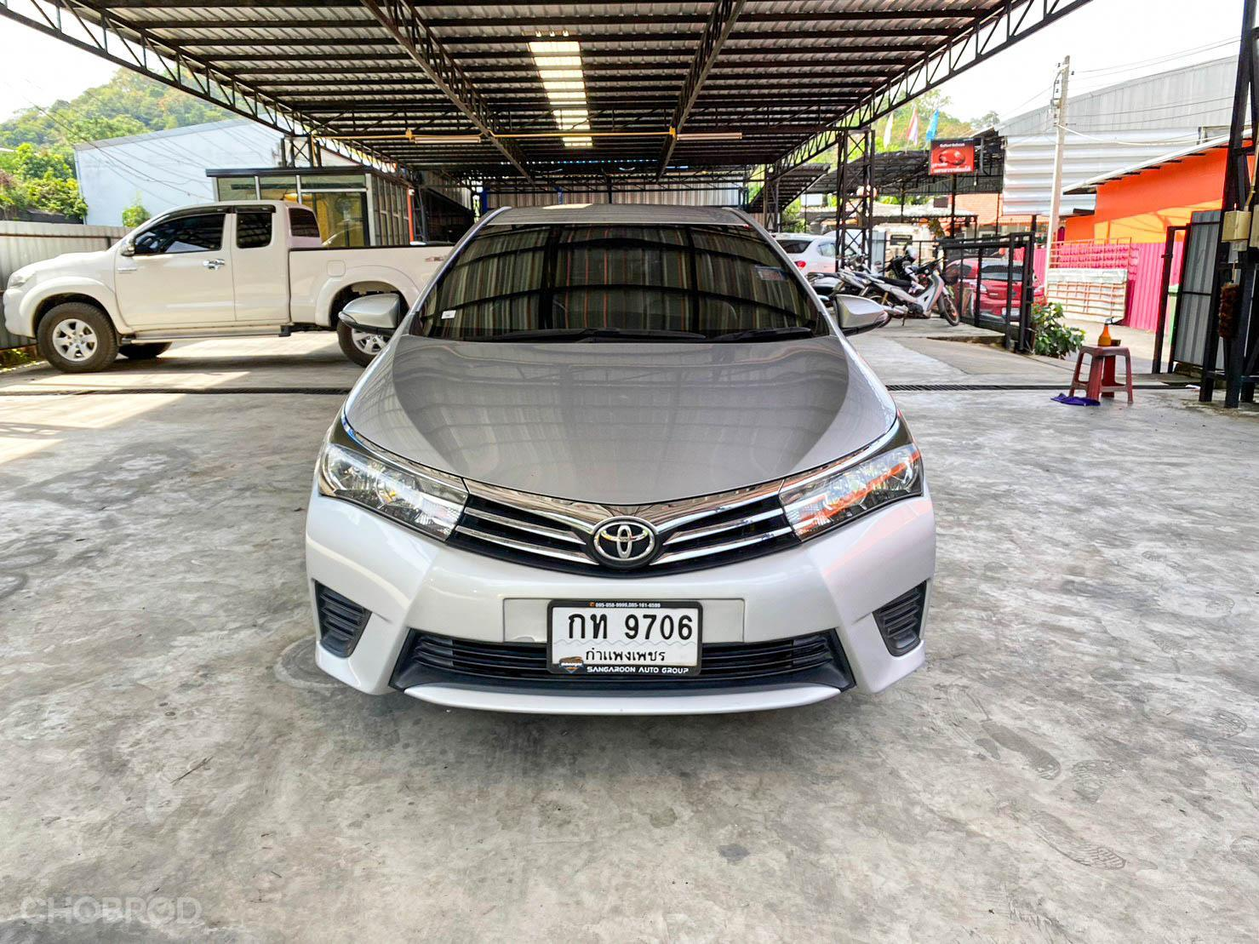license-plate: (540, 599, 707, 694)
